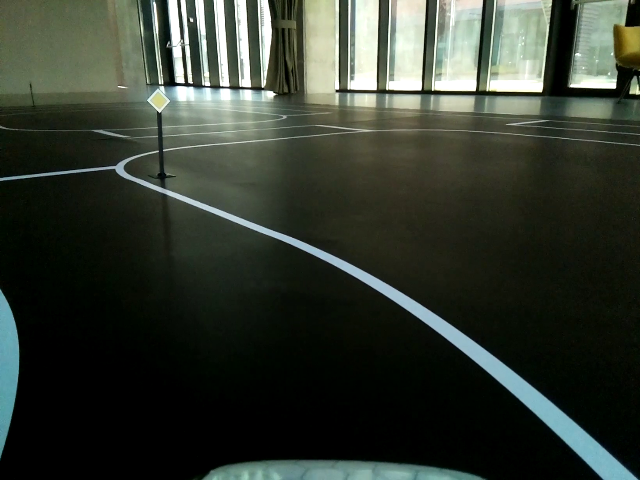priority: (148, 89, 169, 114)
